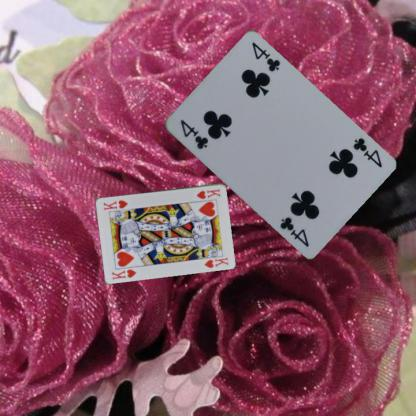4c: (177, 116, 210, 151), (350, 135, 383, 169)
Kh: (109, 266, 138, 281), (194, 186, 221, 200)
